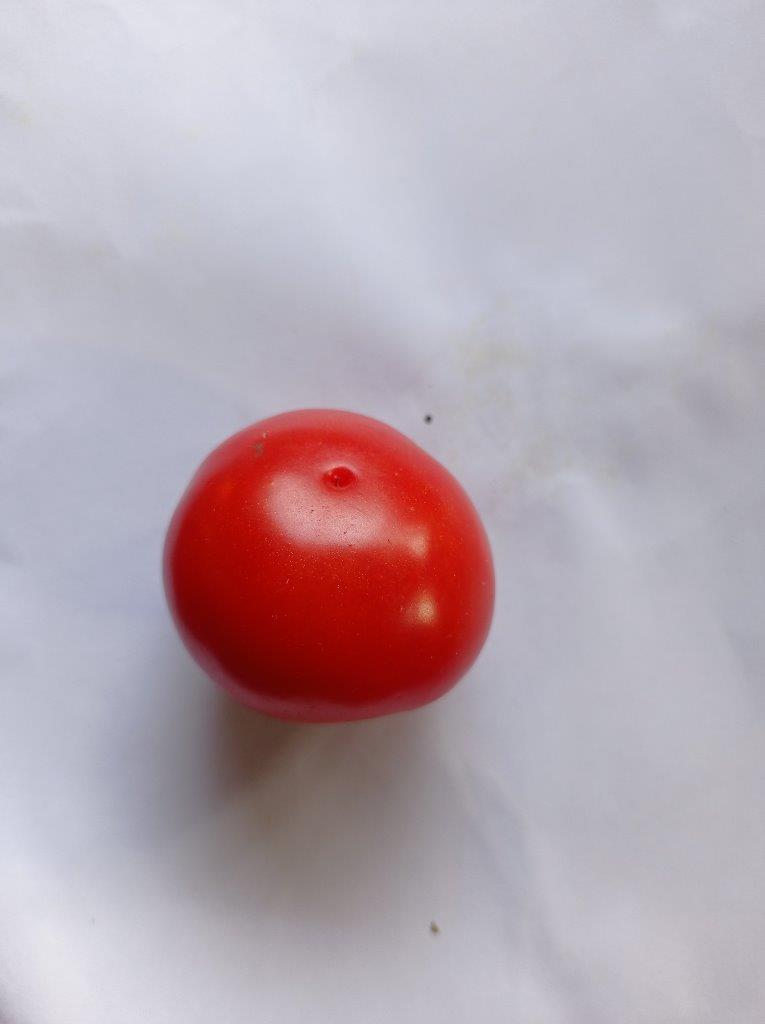tomato: (165, 410, 494, 722)
